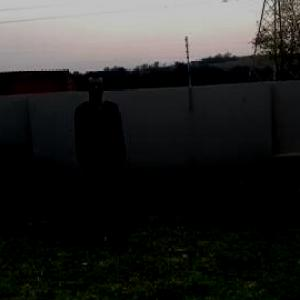follow: (75, 70, 131, 242)
